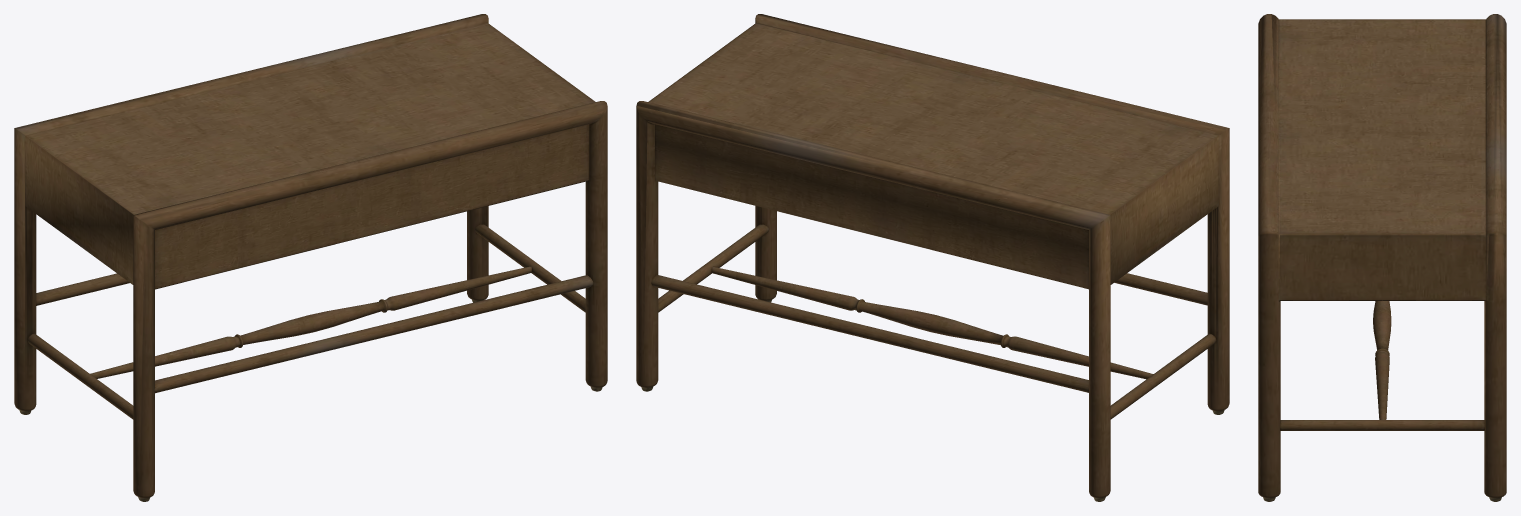
File: e1901884-2e47-4a82-8a2e-bfd573200c6f.glb
3 views of the same model, side by side, from view 1: azimuth 30°, elevation 25°; view 2: azimuth 150°, elevation 25°; view 3: azimuth 270°, elevation 25° (orthographic). The views are drawn at different scales.
Parts seen in each view (by area): view 1: small_wooden_table_01; view 2: small_wooden_table_01; view 3: small_wooden_table_01.
Boxes of the visible parts, box(x1,y1,x2,y2) form: small_wooden_table_01: box(14, 14, 607, 501); small_wooden_table_01: box(636, 14, 1229, 501); small_wooden_table_01: box(1258, 14, 1506, 501).
Bounding box in the file's own units: 0.9162 × 0.5331 × 0.4399.
Materials: 1 (1 with a texture image).
